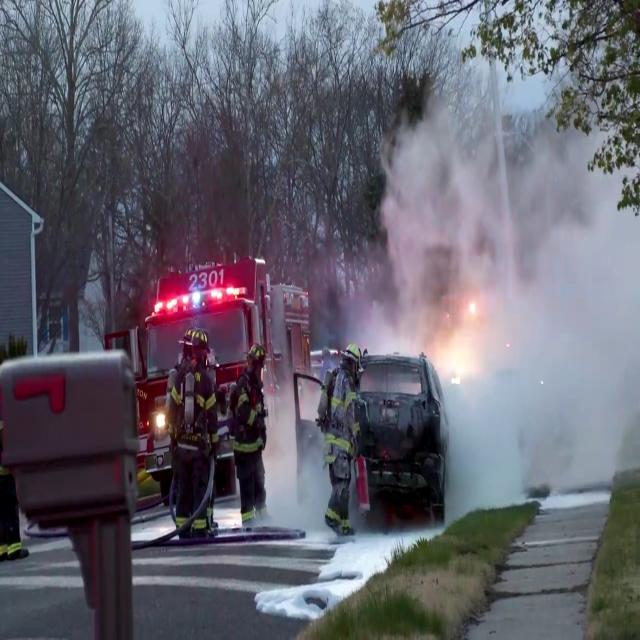Fire: (424, 290, 486, 386)
Smoke: (360, 37, 632, 355), (464, 46, 639, 510)
